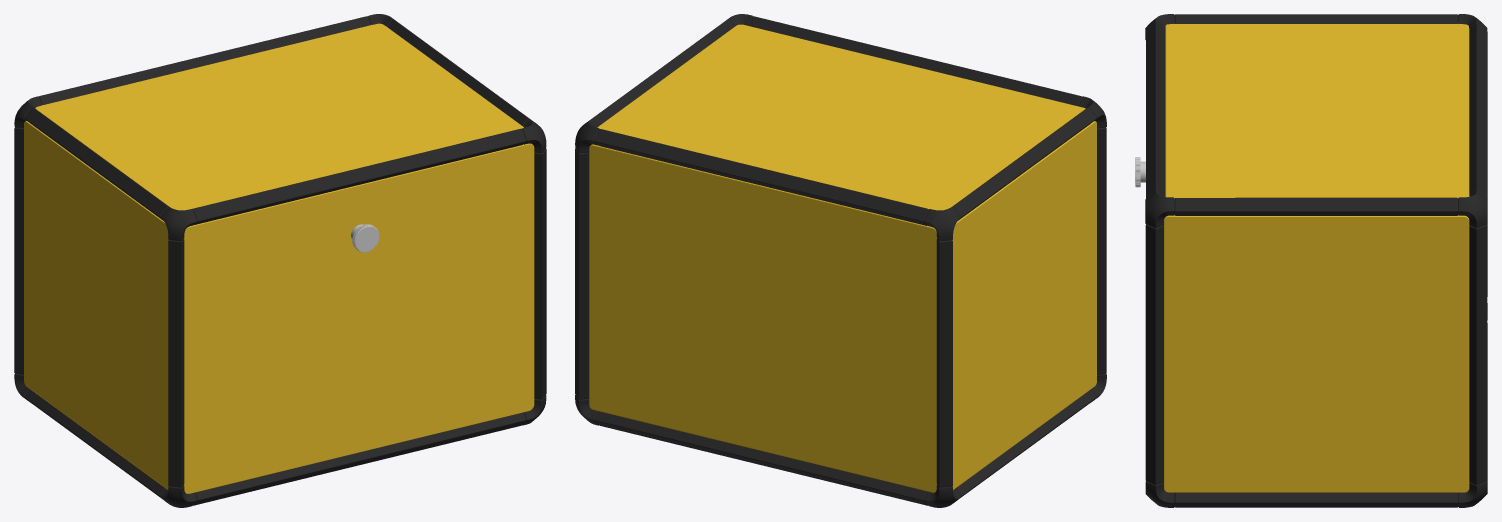
3 views of the same model, side by side, from view 1: azimuth 30°, elevation 25°; view 2: azimuth 150°, elevation 25°; view 3: azimuth 270°, elevation 25° (orthographic). The views are drawn at different scales.
Visible parts, largest first — view 1: 523x374x374; view 2: 523x374x374; view 3: 523x374x374.
Part boxes in pixels (<box>): 523x374x374: <box>14,14,546,507</box>; 523x374x374: <box>575,14,1106,507</box>; 523x374x374: <box>1135,14,1487,507</box>.
Size of the model in its own units: 0.6007 by 0.4516 by 0.4646.
